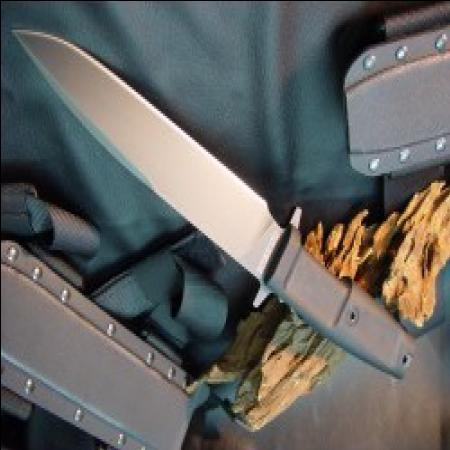long weapon: (5, 26, 279, 276)
